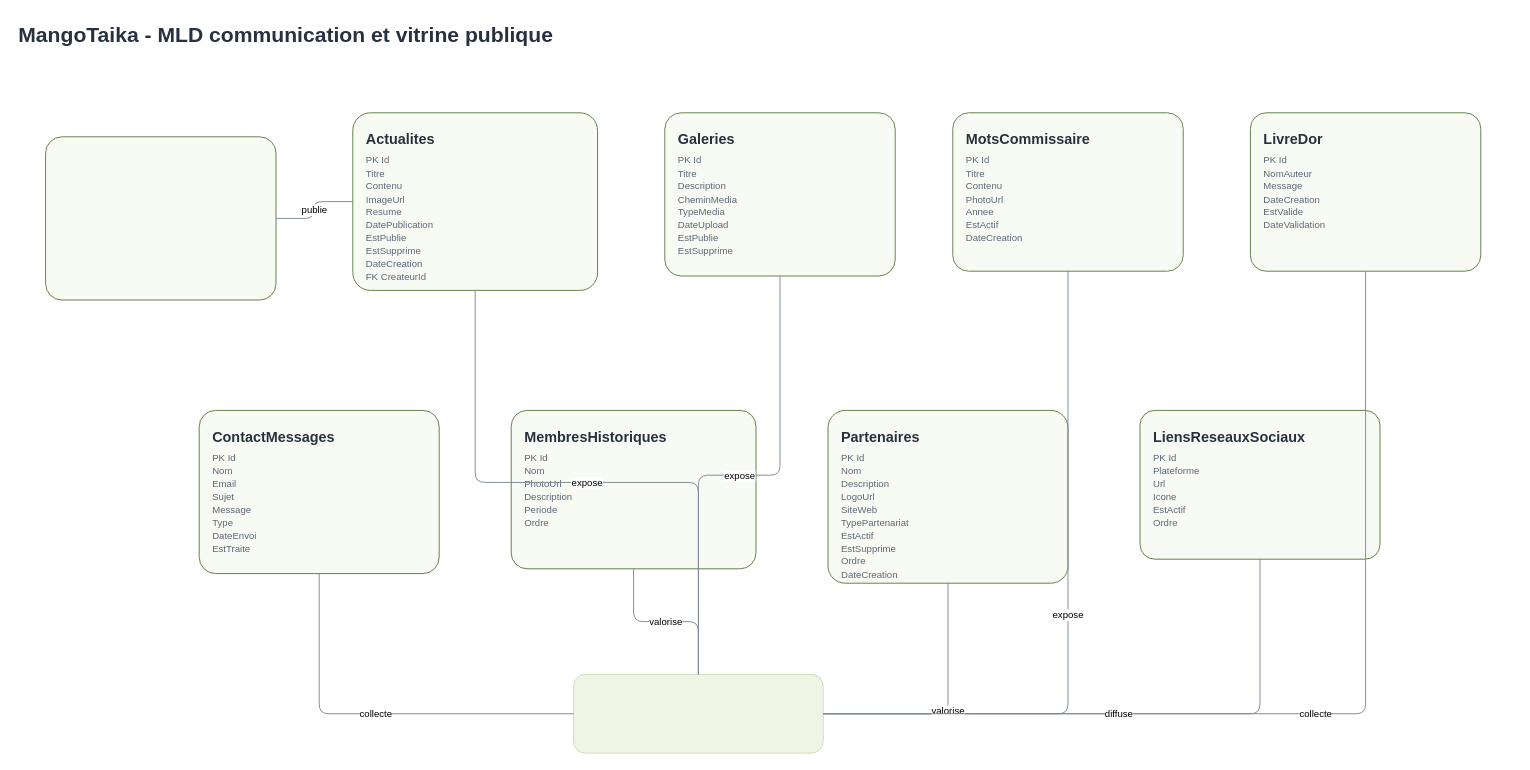
Image size: 1530x770. Some labels were removed from this diagram. The shapes that lost their labels are listed below. From the top down, each one's box as (x1, y1, x2, y2) in pixels, then its label:
(45, 136, 276, 300): AspNetUsers PK Id Nom Prenom Email PhotoUrl IsActive
(573, 673, 823, 753): Portail public
